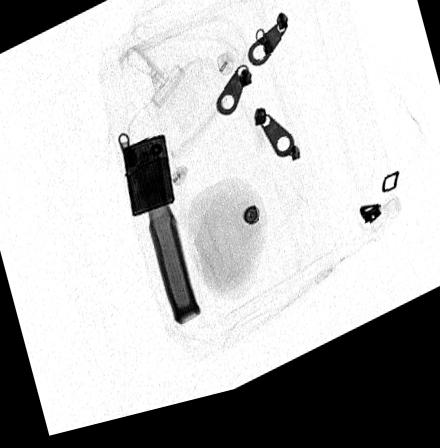Lighter: (123, 142, 174, 222)
